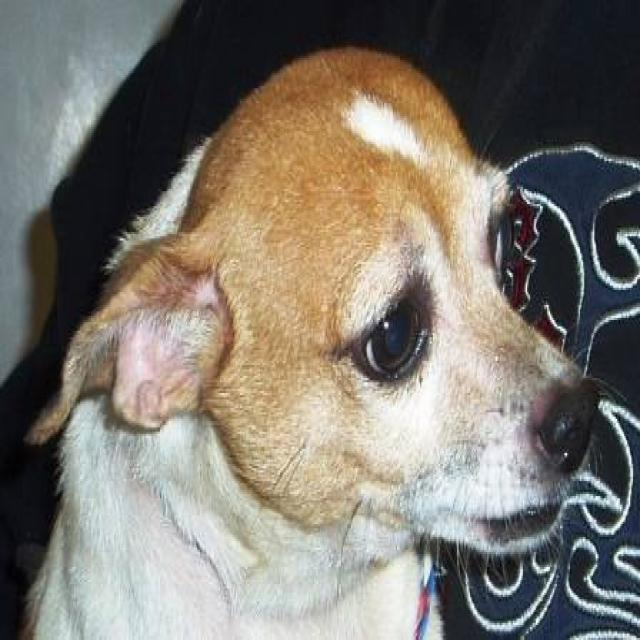dog: (20, 43, 600, 638)
